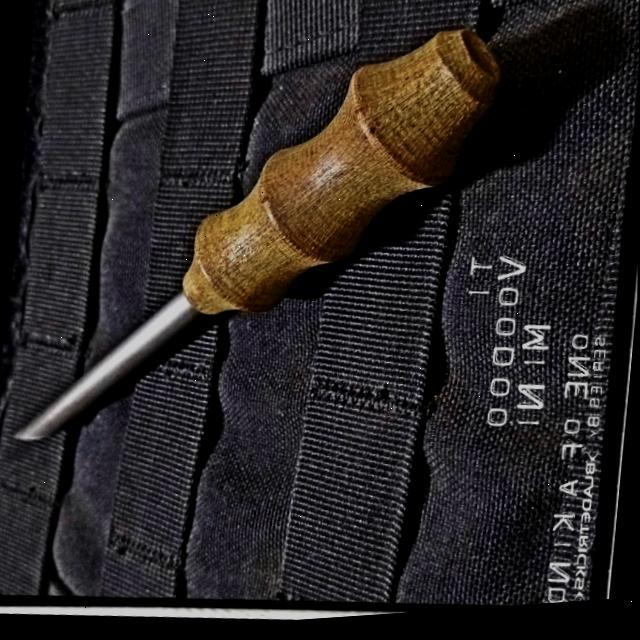ice pick: (13, 0, 503, 479)
